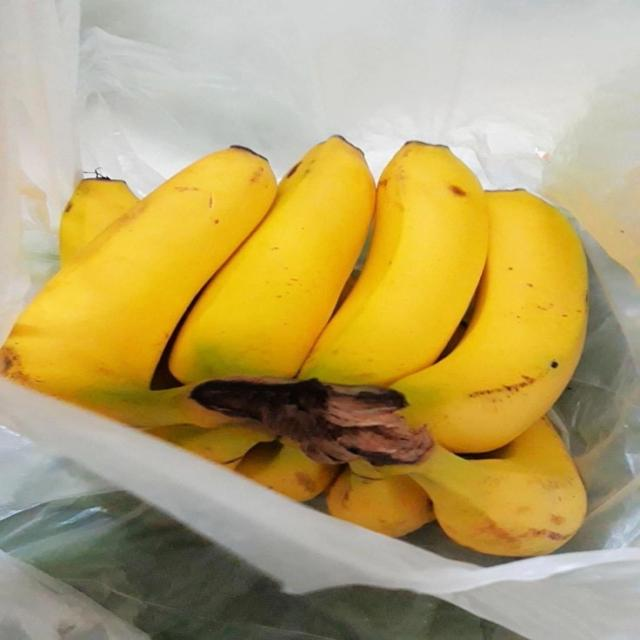unpeal banana: (1, 148, 275, 425), (393, 190, 587, 452), (170, 137, 374, 382), (300, 142, 487, 384), (377, 418, 586, 556), (327, 467, 434, 537), (60, 177, 139, 266), (236, 438, 339, 501), (147, 425, 273, 469)
